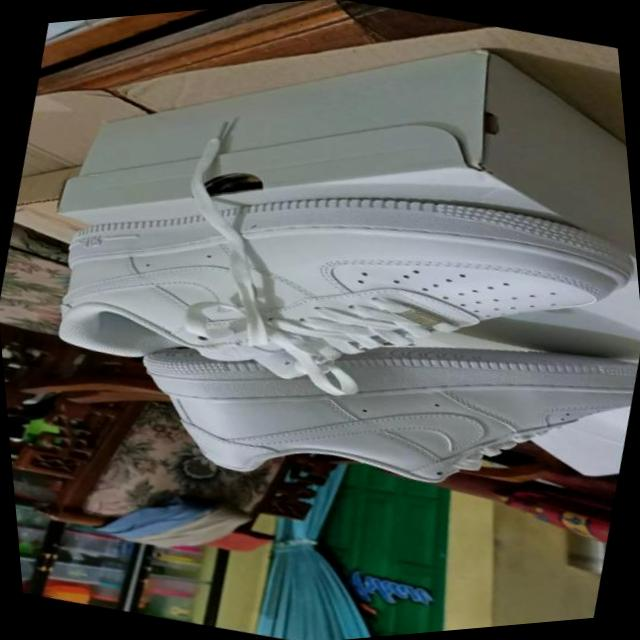nike_original_airforce: (22, 84, 640, 493), (107, 237, 640, 579)
